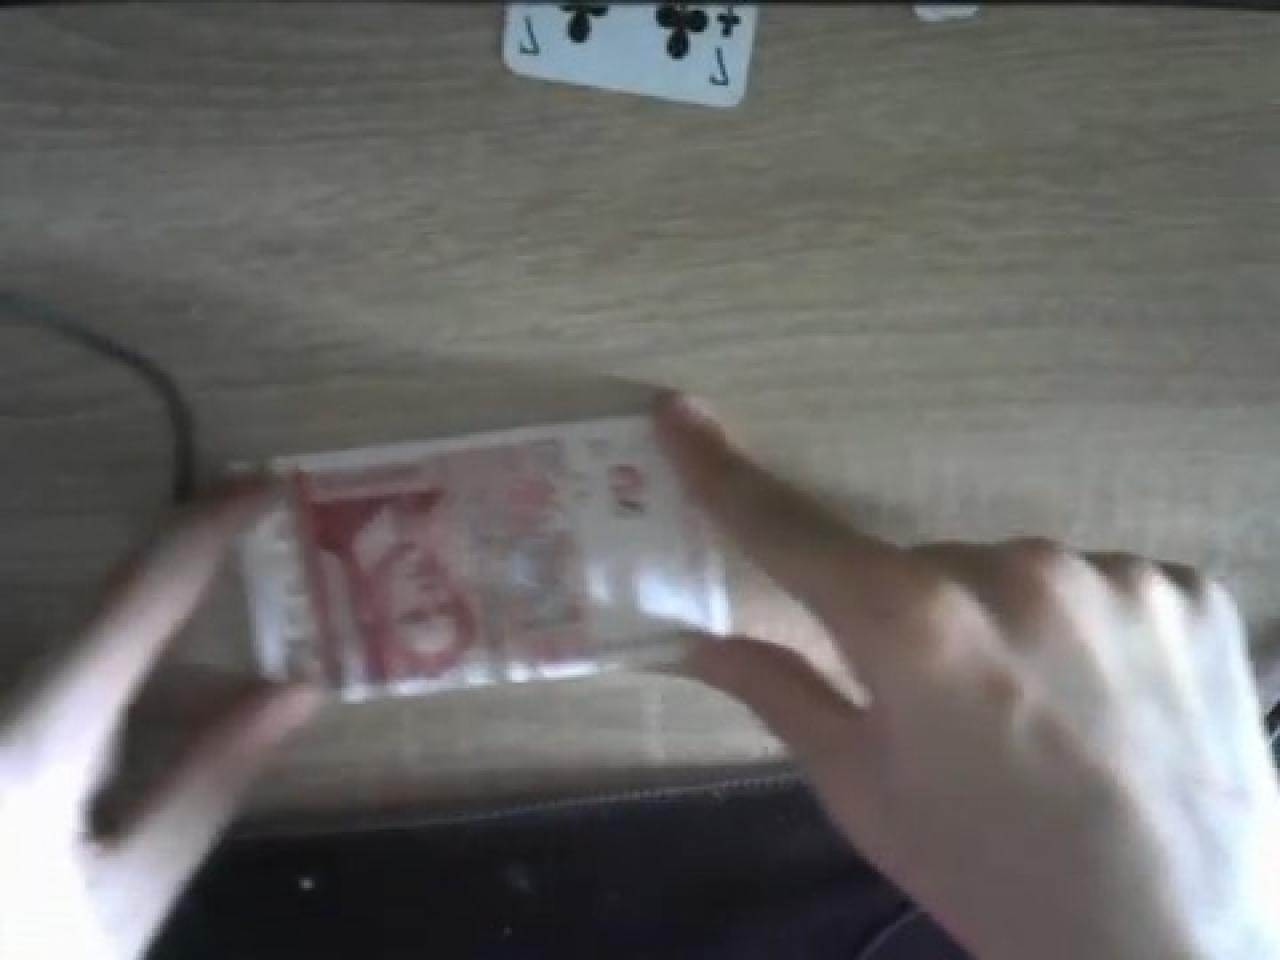5leva: (264, 413, 792, 701)
